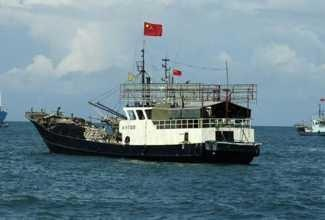otherboat: (16, 99, 267, 163)
